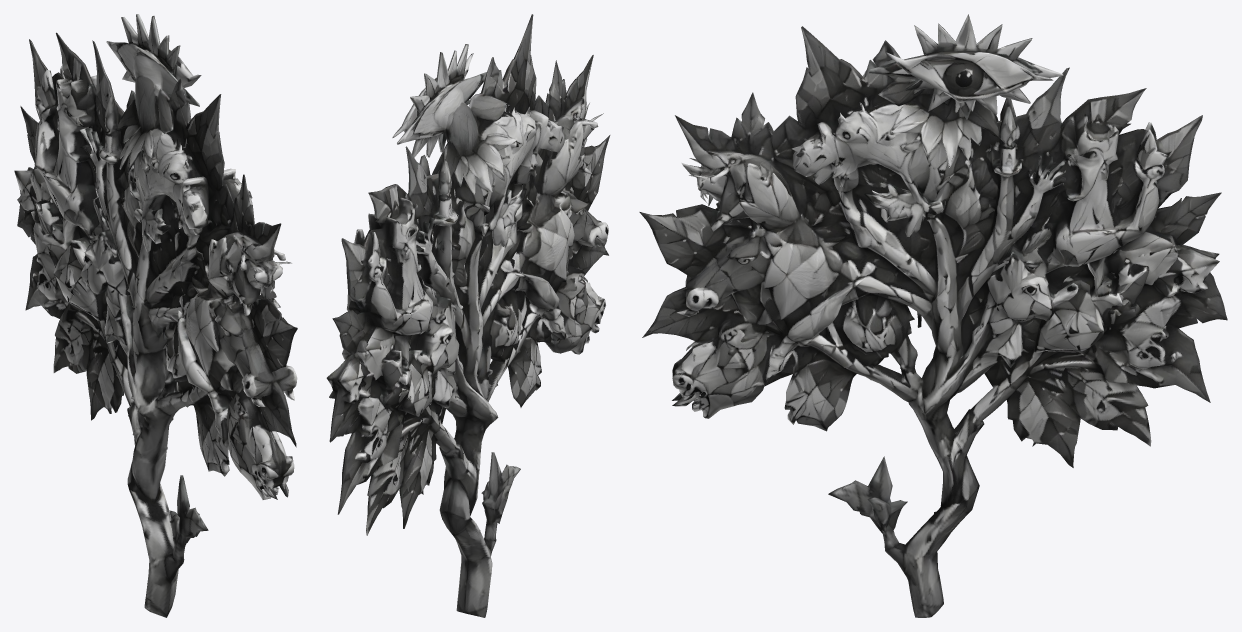
File: stylized+tree+3d+model+1k.glb
3 views of the same model, side by side, from view 1: azimuth 30°, elevation 25°; view 2: azimuth 150°, elevation 25°; view 3: azimuth 270°, elevation 25° (orthographic). The views are drawn at different scales.
Visible parts, largest first — view 1: tripo_node_e95d0f59-e7c1-47fe-ba89-e110323bc02e; view 2: tripo_node_e95d0f59-e7c1-47fe-ba89-e110323bc02e; view 3: tripo_node_e95d0f59-e7c1-47fe-ba89-e110323bc02e.
Part boxes in pixels (x1=…): tripo_node_e95d0f59-e7c1-47fe-ba89-e110323bc02e: x1=14, y1=14, x2=297, y2=617; tripo_node_e95d0f59-e7c1-47fe-ba89-e110323bc02e: x1=326, y1=14, x2=610, y2=617; tripo_node_e95d0f59-e7c1-47fe-ba89-e110323bc02e: x1=639, y1=14, x2=1227, y2=617.
Bounding box in the file's own units: 0.1191 × 1 × 0.8756.
Materials: 1 (1 with a texture image).
